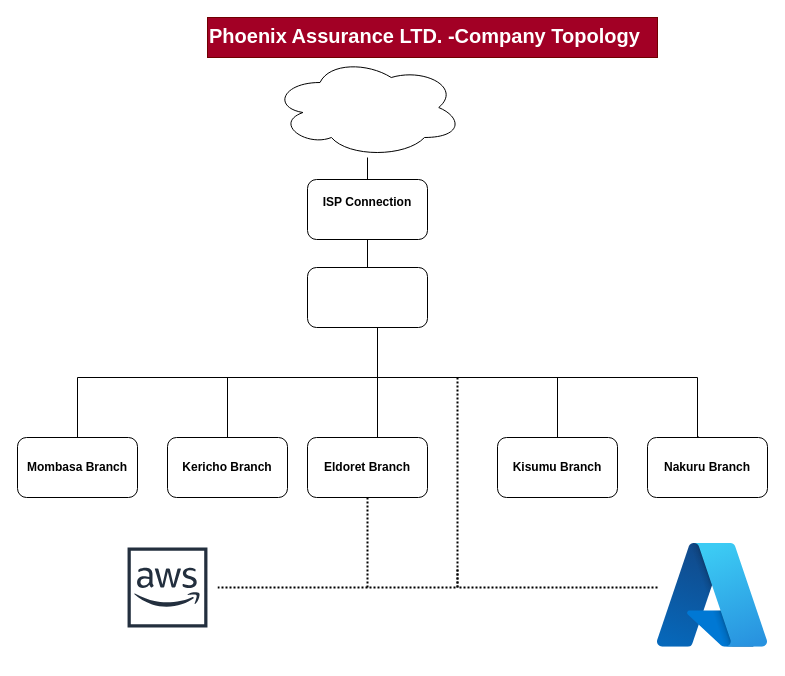
Some shapes in this 785 by 676 pixel diagram are drawn without their labels. Here are the shapes that lost their labels. From the top down, the centre of each, then its label:
[367,107]: Internet
[367,297]: Phoenix HQ (Nairobi)
[167,587]: AWS Cloud
